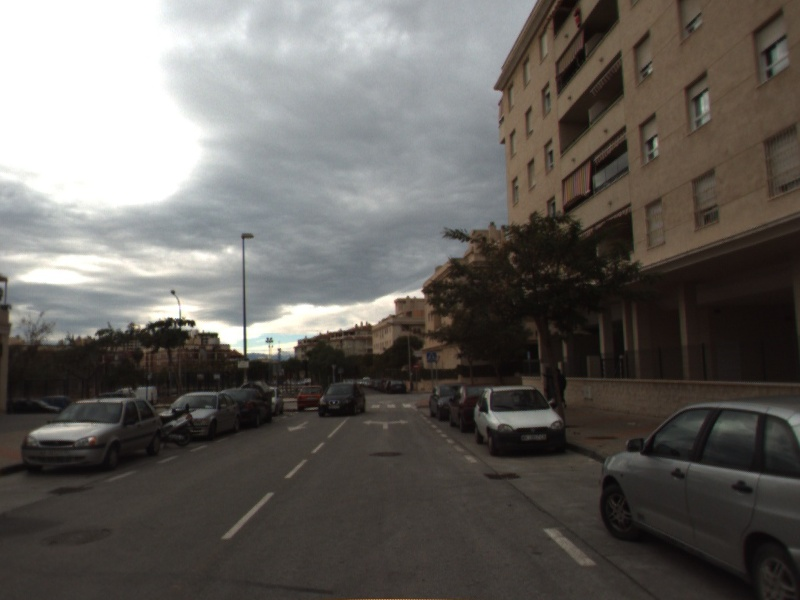LEFT_RIGHT: (360, 417, 411, 431)
